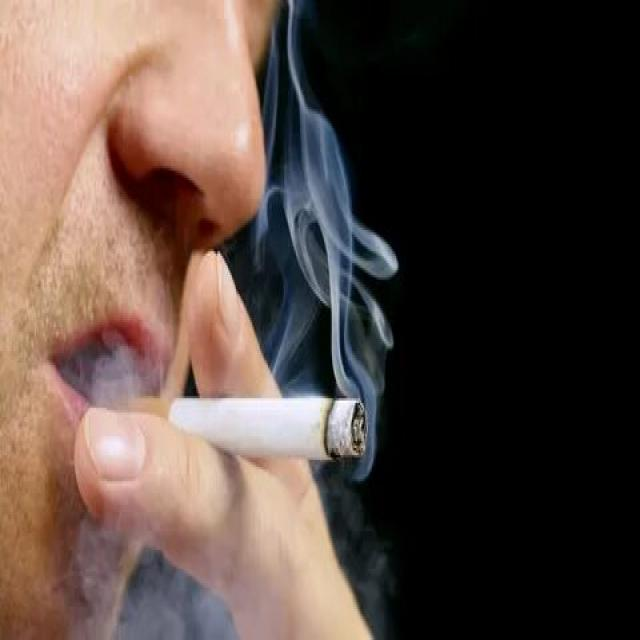cigarette: (120, 374, 377, 467)
